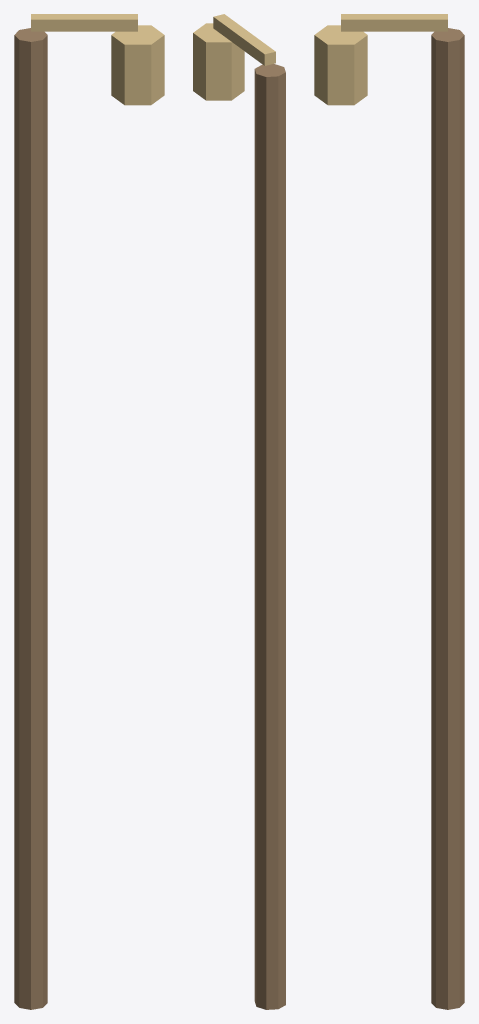
The model's file is lantern_pole.glb.
3 renders of one model, left to right at view 1: azimuth 90°, elevation 25°; view 2: azimuth 210°, elevation 25°; view 3: azimuth 270°, elevation 25°, orthographic. The views are drawn at different scales.
Parts seen in each view (by area): view 1: Pole; view 2: Pole; view 3: Pole.
Boxes of the visible parts, x1=… form: Pole: x1=14, y1=14, x2=164, y2=1009; Pole: x1=193, y1=14, x2=285, y2=1009; Pole: x1=314, y1=14, x2=464, y2=1009.
Size of the model in its own units: 0.0693 by 1.63 by 0.225.
